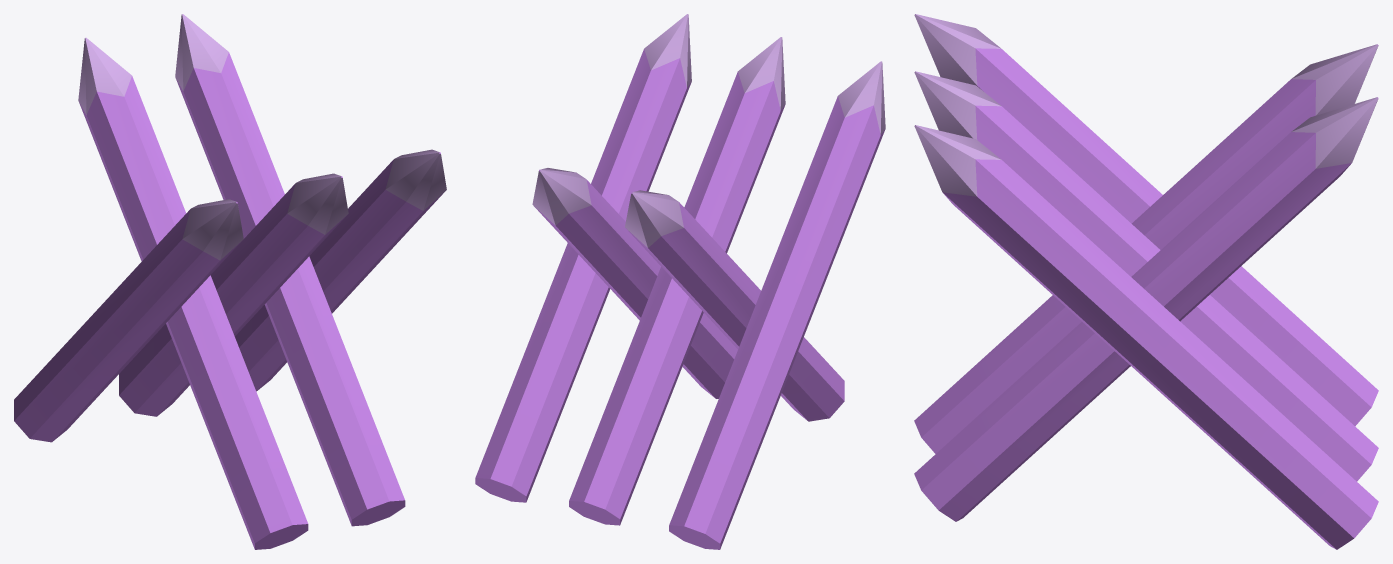
File: stake_3x2.fbx
3 views of the same model, side by side, from view 1: azimuth 30°, elevation 25°; view 2: azimuth 150°, elevation 25°; view 3: azimuth 270°, elevation 25° (orthographic). The views are drawn at different scales.
Parts seen in each view (by area): view 1: polySurface2; view 2: polySurface2; view 3: polySurface2.
Part boxes in pixels (x1=…): polySurface2: x1=14, y1=14, x2=446, y2=549; polySurface2: x1=475, y1=14, x2=885, y2=549; polySurface2: x1=914, y1=14, x2=1378, y2=549.
Bounding box in the file's own units: 9.57 × 13.39 × 13.4.
